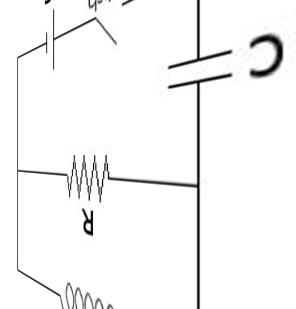resistor: (36, 138, 118, 202)
